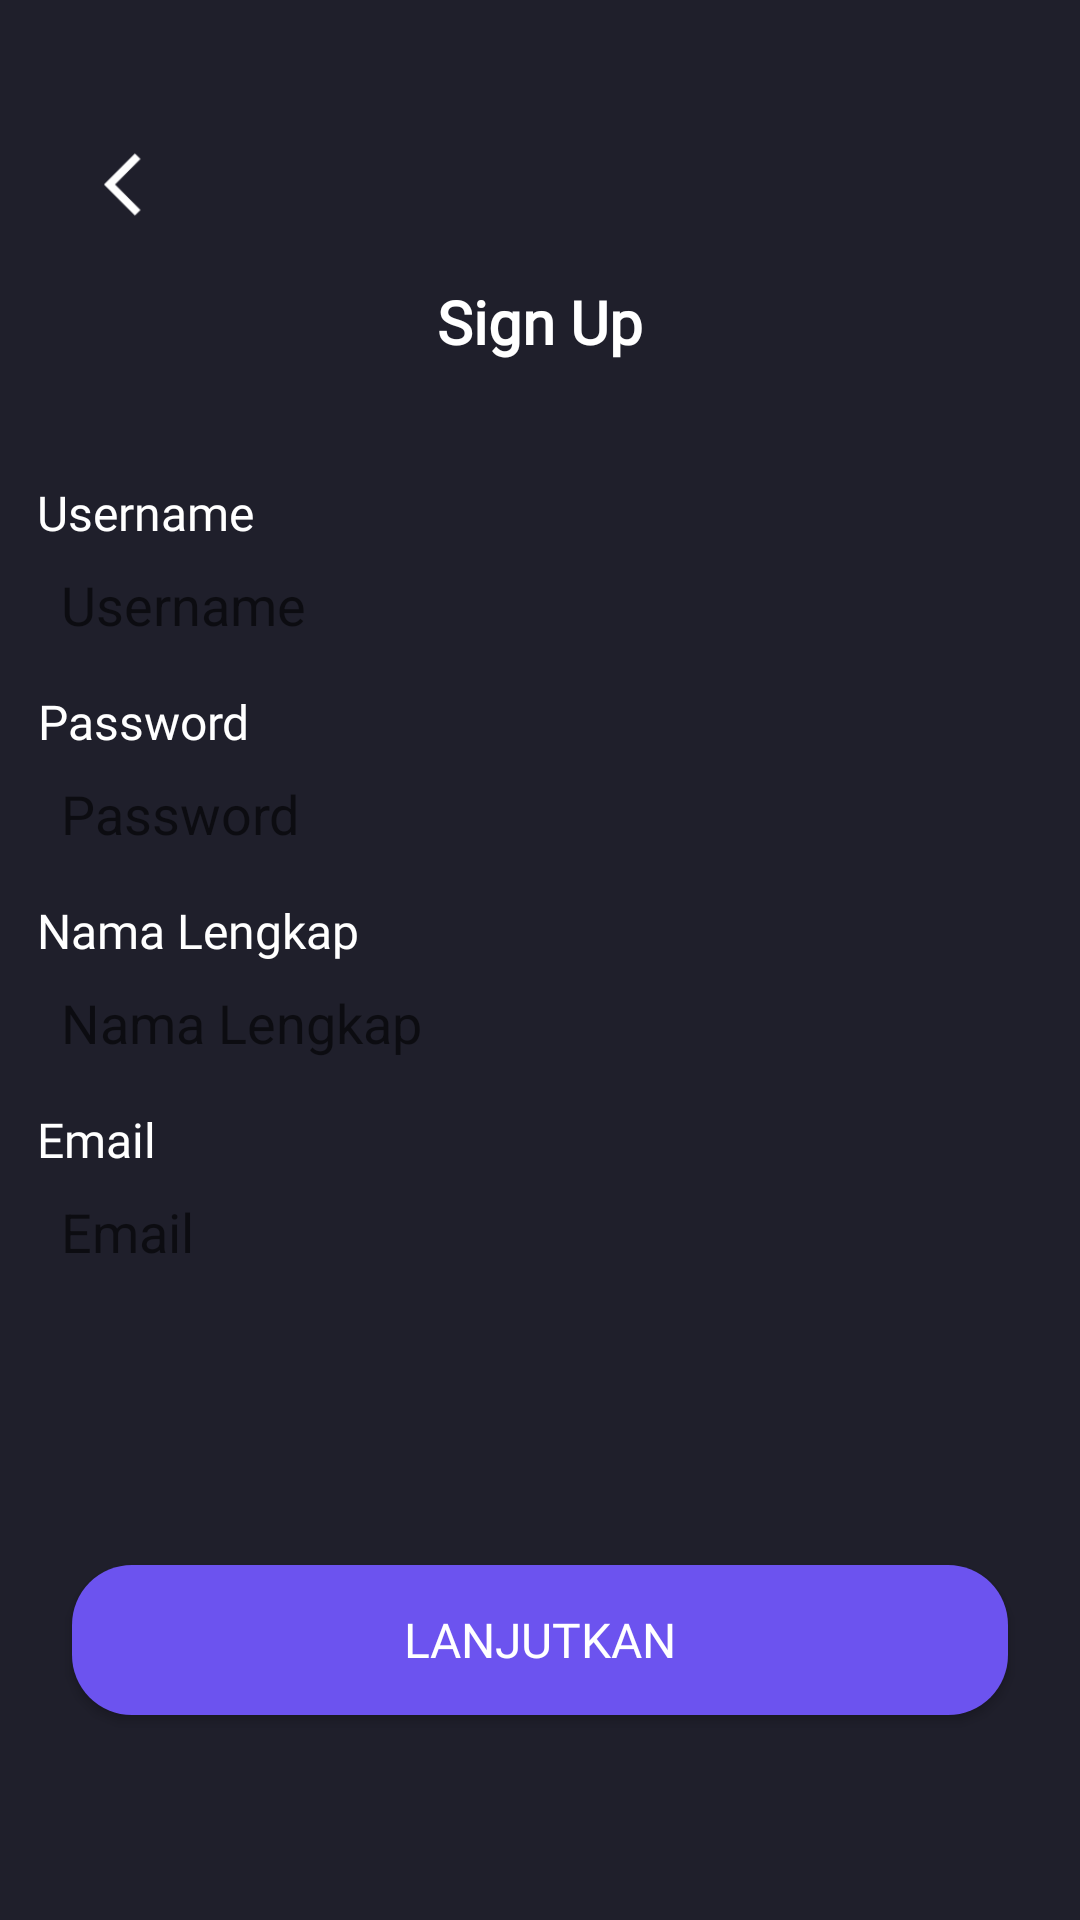

Locate icon controls on the screen. Image size 1080 x 1920, boxes as (x1,y1,x2,y2).
arrow back: (104,153,141,216)
